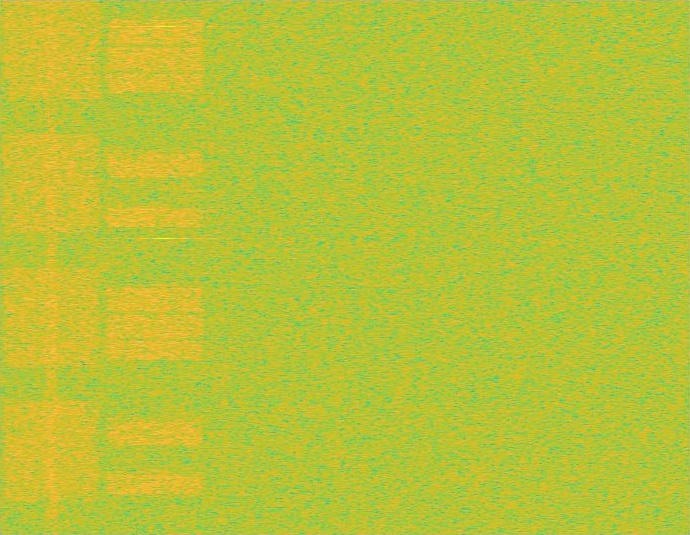5G: (0, 0, 104, 534)
DSSS: (45, 0, 59, 534)
LTE: (104, 0, 207, 534)
Radar: (157, 0, 171, 534)
